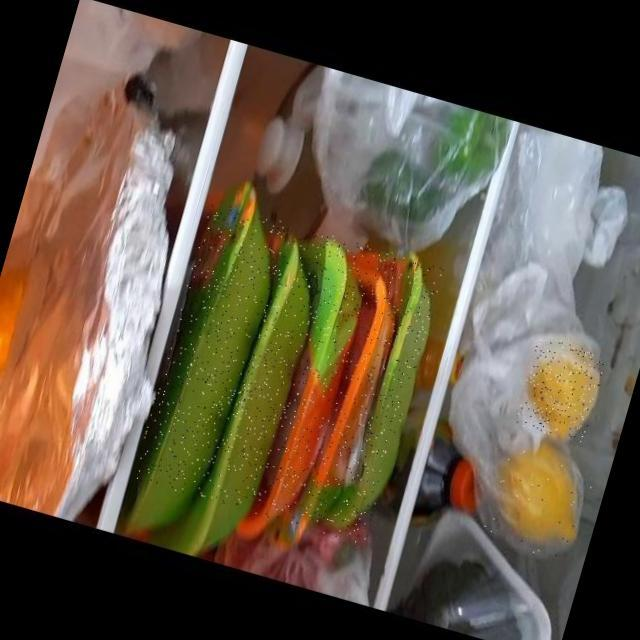Carne pollo: (131, 200, 444, 544)
